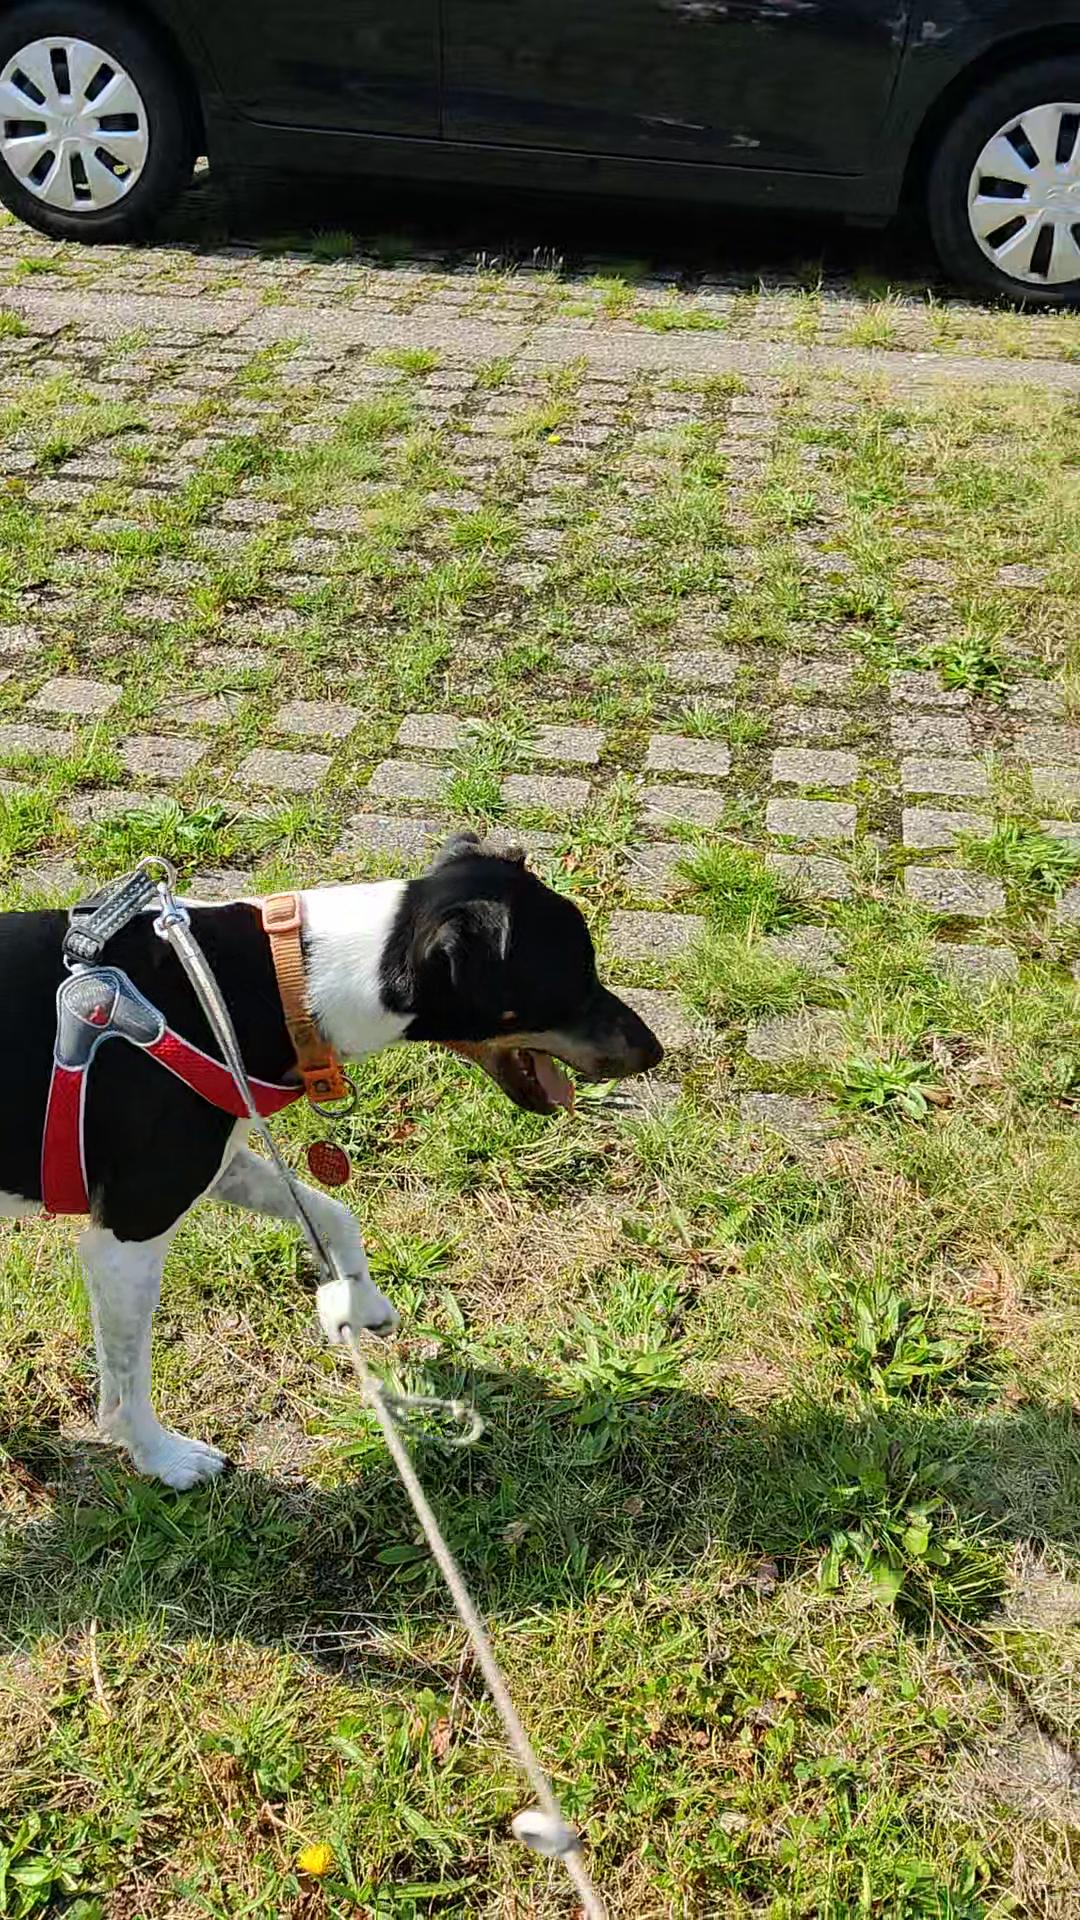Dog: (0, 814, 680, 1518)
